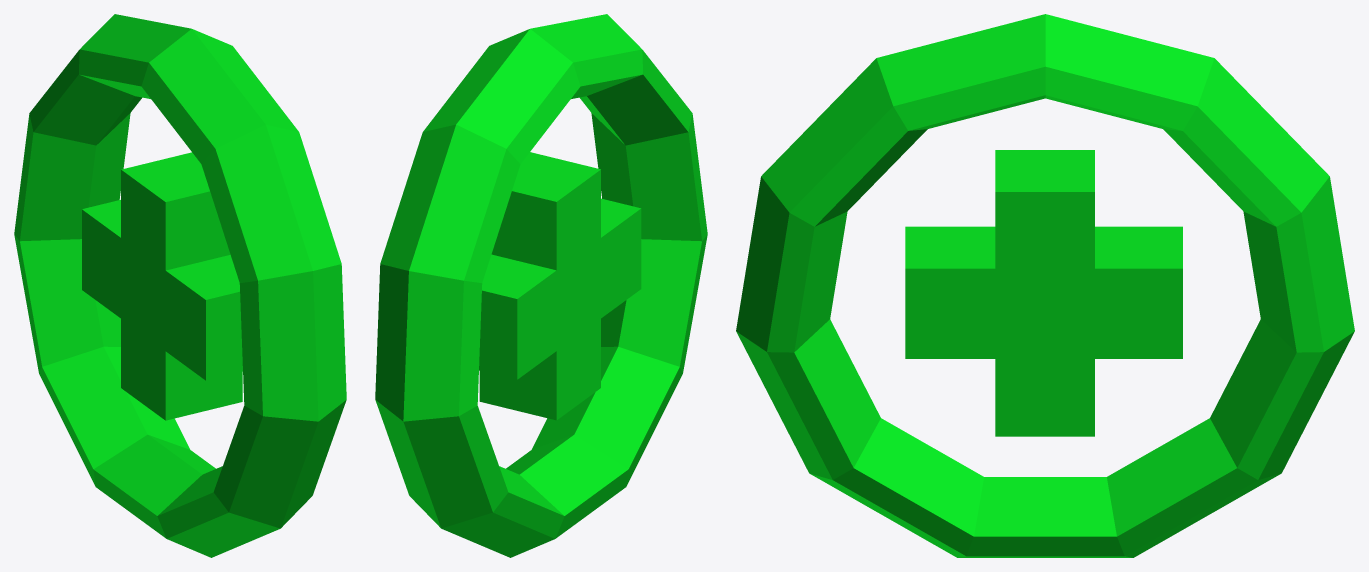
Rendered from HealthPickUp.fbx.
3 views of the same model, side by side, from view 1: azimuth 30°, elevation 25°; view 2: azimuth 150°, elevation 25°; view 3: azimuth 270°, elevation 25° (orthographic). The views are drawn at different scales.
Parts seen in each view (by area): view 1: HealthPickUp; view 2: HealthPickUp; view 3: HealthPickUp.
Boxes of the visible parts, x1,y1,x2,y2 form: HealthPickUp: (14, 14, 346, 557); HealthPickUp: (375, 14, 707, 557); HealthPickUp: (736, 14, 1354, 557).
Bounding box in the file's own units: 86.28 × 361 × 365.
